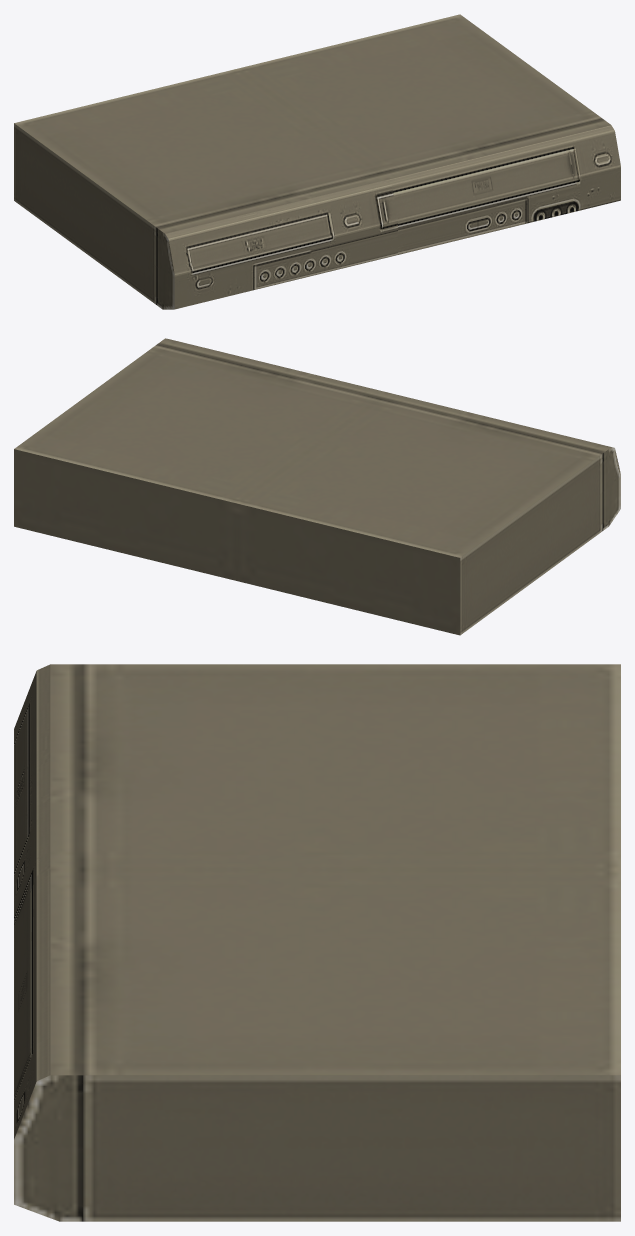
Rendered from TVBox.FBX.
The picture shows the model from 3 angles, top to bottom: view 1: azimuth 30°, elevation 25°; view 2: azimuth 150°, elevation 25°; view 3: azimuth 270°, elevation 25°; orthographic projection. The views are drawn at different scales.
Parts seen in each view (by area): view 1: TVBox; view 2: TVBox; view 3: TVBox.
Boxes of the visible parts, box(x1,y1,x2,y2) form: TVBox: box(14, 14, 620, 309); TVBox: box(14, 338, 620, 635); TVBox: box(14, 664, 620, 1221).
Bounding box in the file's own units: 84.07 × 13.97 × 52.48.
